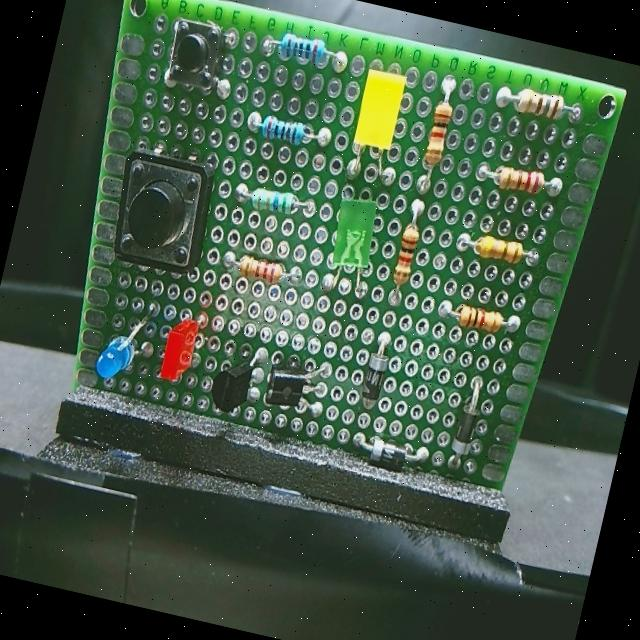diode: (342, 414, 436, 486), (436, 368, 494, 477), (347, 326, 399, 424)
led: (336, 58, 416, 188), (310, 188, 390, 305), (87, 286, 164, 396), (150, 300, 214, 399)
resistor: (402, 64, 469, 200), (377, 192, 444, 318), (253, 21, 355, 88), (209, 238, 306, 306), (432, 286, 526, 351), (489, 79, 587, 140), (225, 172, 322, 232), (467, 152, 567, 210), (240, 101, 338, 160), (449, 227, 550, 284)
switch: (98, 132, 227, 284), (158, 11, 248, 103)
transistor: (258, 344, 339, 430), (202, 333, 274, 427)
